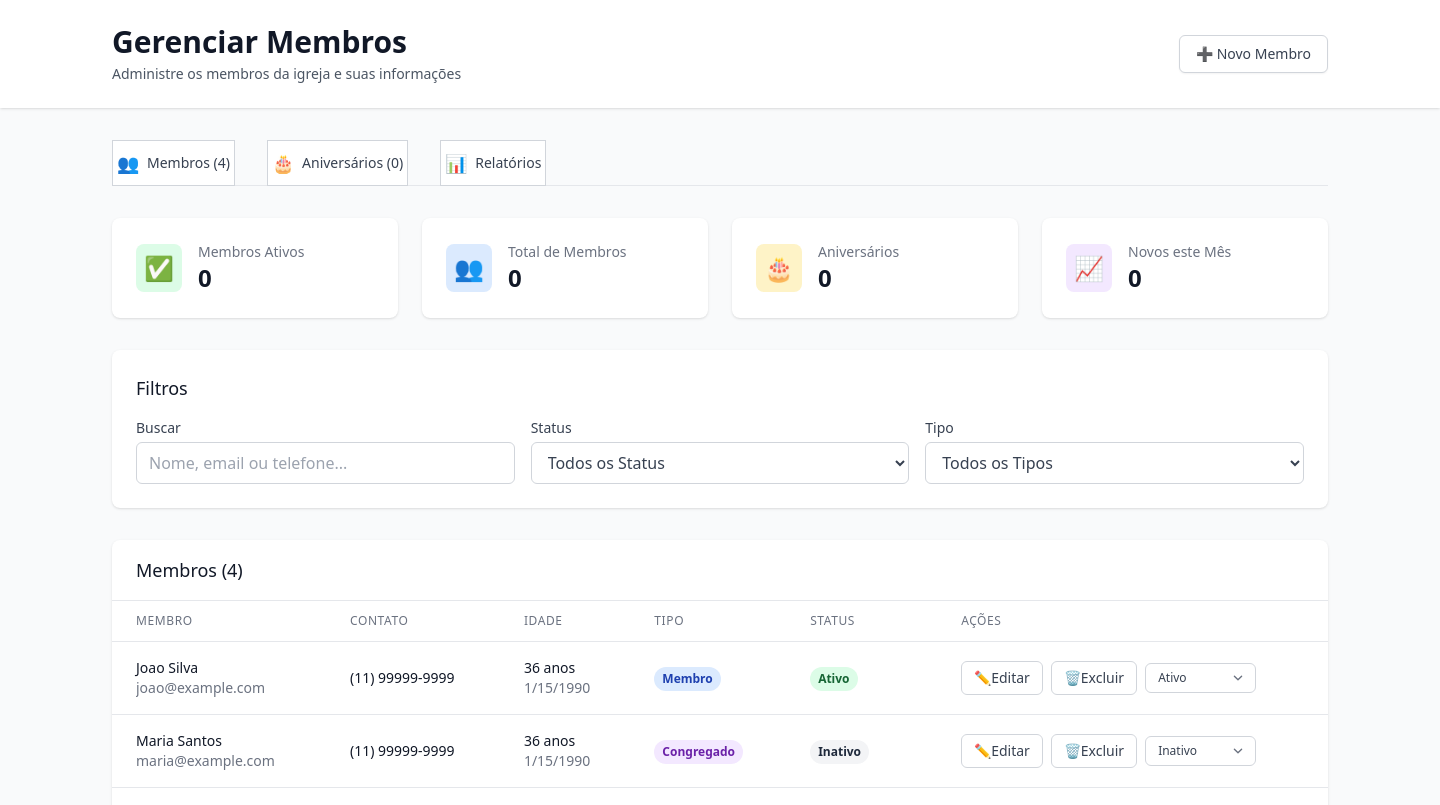
Test: MembersManagementPage › Filtering › should filter members by search term (email)
Check: the text "Joao Silva" is shown, box [136,658,198,677]
In the field with placeholder "Nome, email ou telefone...": (325, 463) [136,442,515,484], type "maria@"
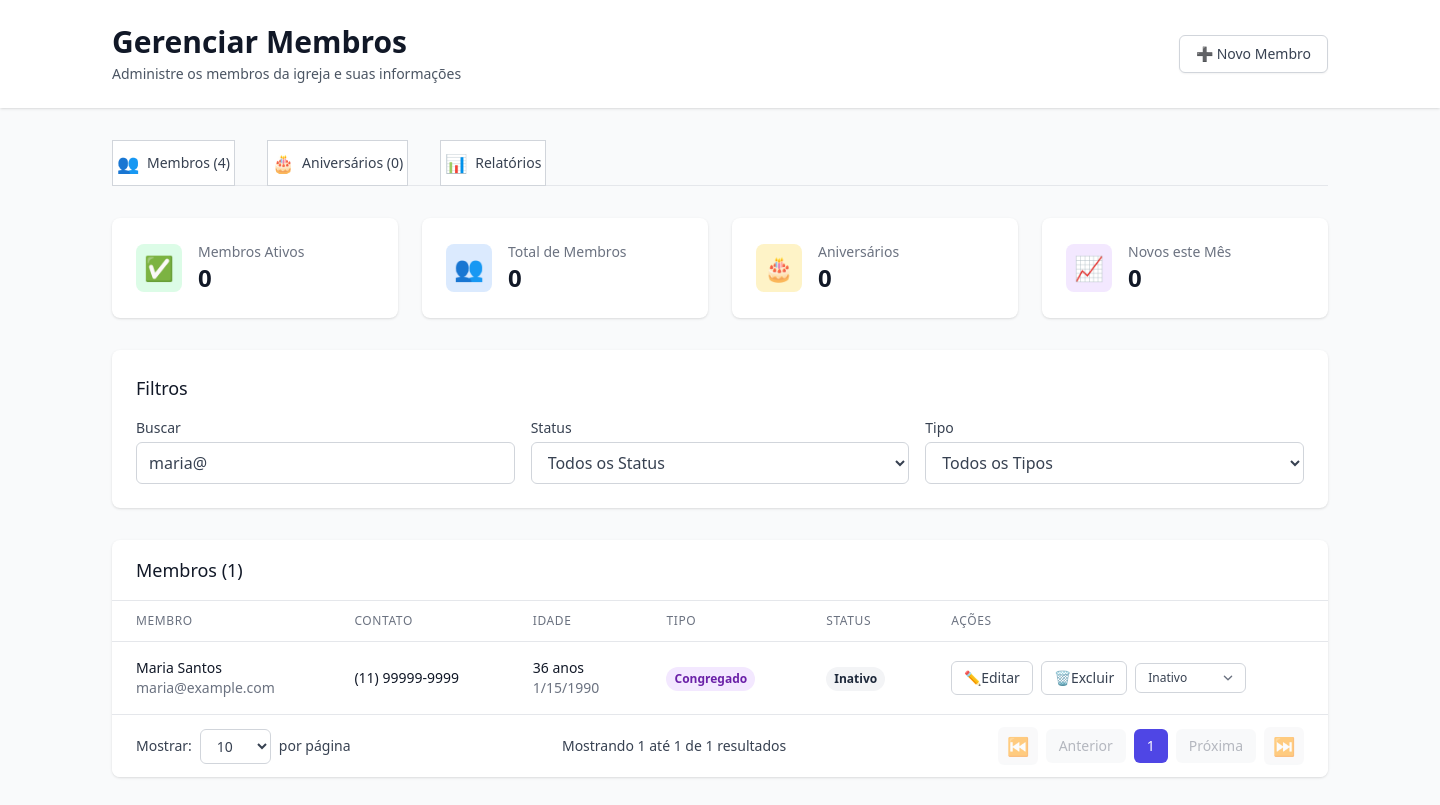
Check: the text "Maria Santos" is shown, box [136,658,222,677]
Check: the text "Joao Silva" is gone
